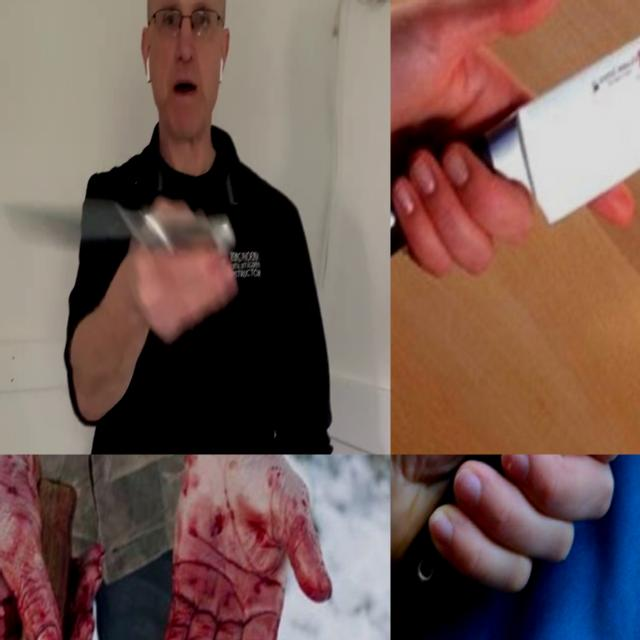Knife: (466, 35, 640, 221)
Knife_Handle: (390, 0, 640, 376), (0, 200, 237, 344), (390, 454, 640, 590), (0, 454, 121, 640)
